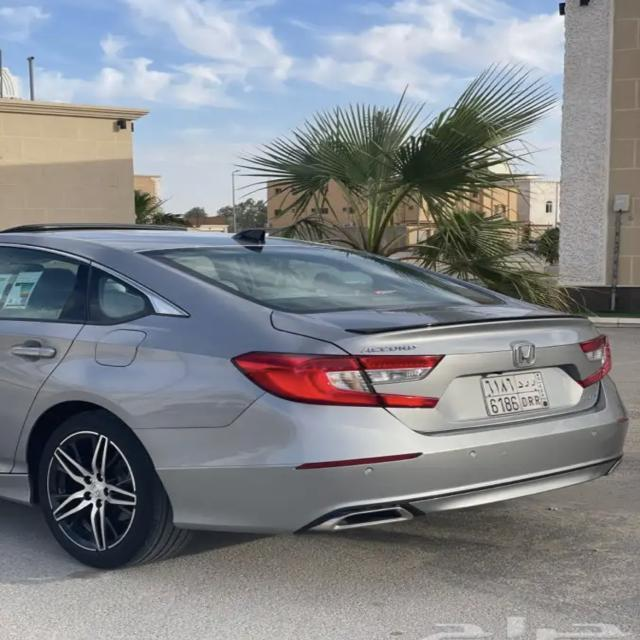license_plate: (480, 375, 564, 418)
